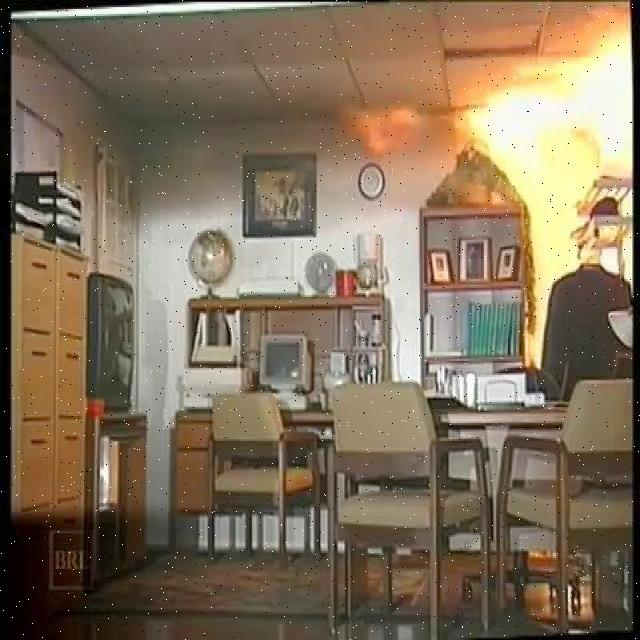fire: (424, 32, 640, 166)
